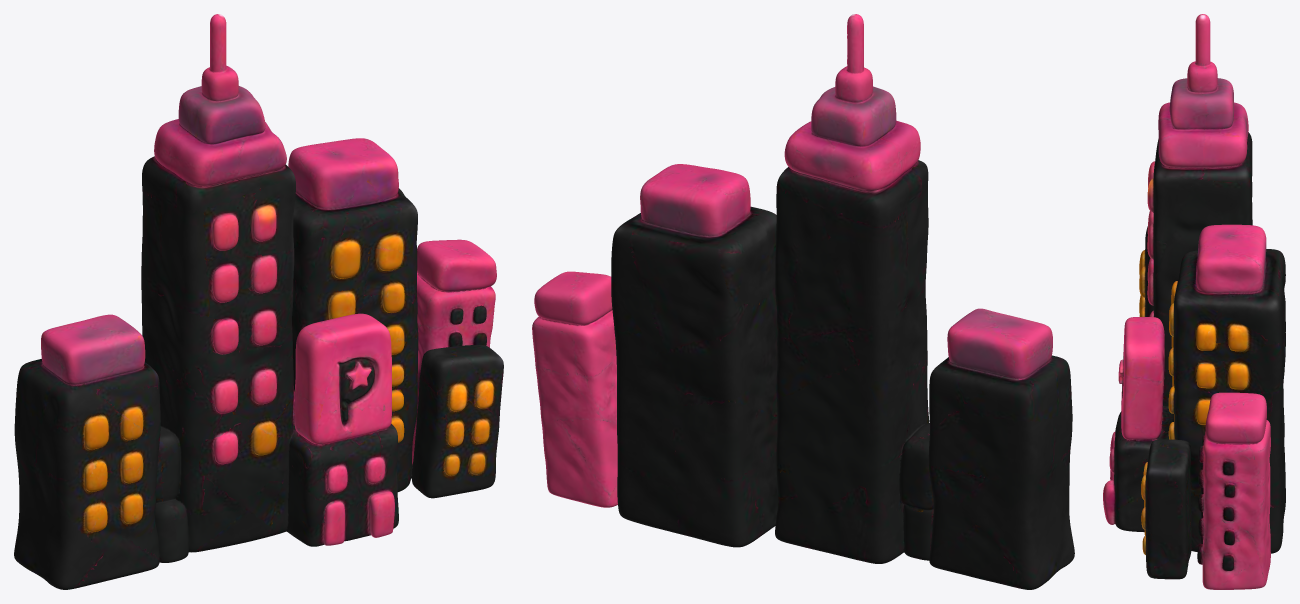
Rendered from zoom_buildings.glb.
3 renders of one model, left to right at view 1: azimuth 30°, elevation 25°; view 2: azimuth 150°, elevation 25°; view 3: azimuth 270°, elevation 25°, orthographic. The views are drawn at different scales.
Bounding box in the file's own units: 1.86 × 1.9 × 0.6875.
Materials: 1 (1 with a texture image).
